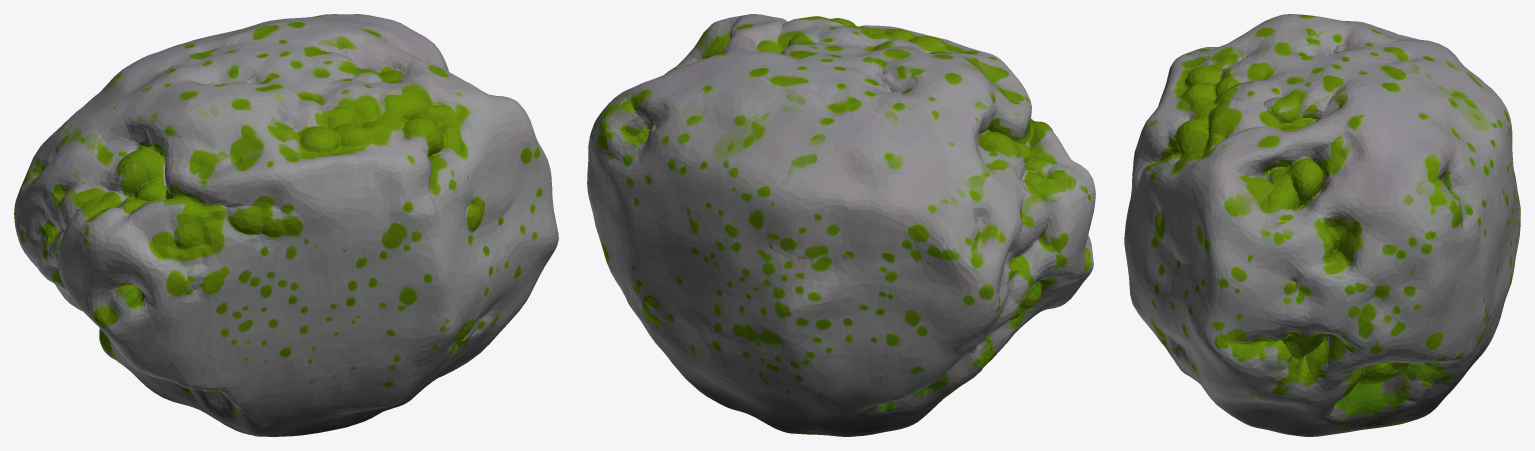
Rendered from rock.glb.
The picture shows the model from 3 angles, left to right: view 1: azimuth 30°, elevation 25°; view 2: azimuth 150°, elevation 25°; view 3: azimuth 270°, elevation 25°; orthographic projection. The views are drawn at different scales.
Visible parts, largest first — view 1: textured_mesh.obj; view 2: textured_mesh.obj; view 3: textured_mesh.obj.
Boxes of the visible parts, x1,y1,x2,y2 form: textured_mesh.obj: (14,14,558,436); textured_mesh.obj: (587,14,1095,436); textured_mesh.obj: (1124,14,1520,436).
Size of the model in its own units: 1.99 by 1.42 by 1.57.
Materials: 1 (1 with a texture image).
